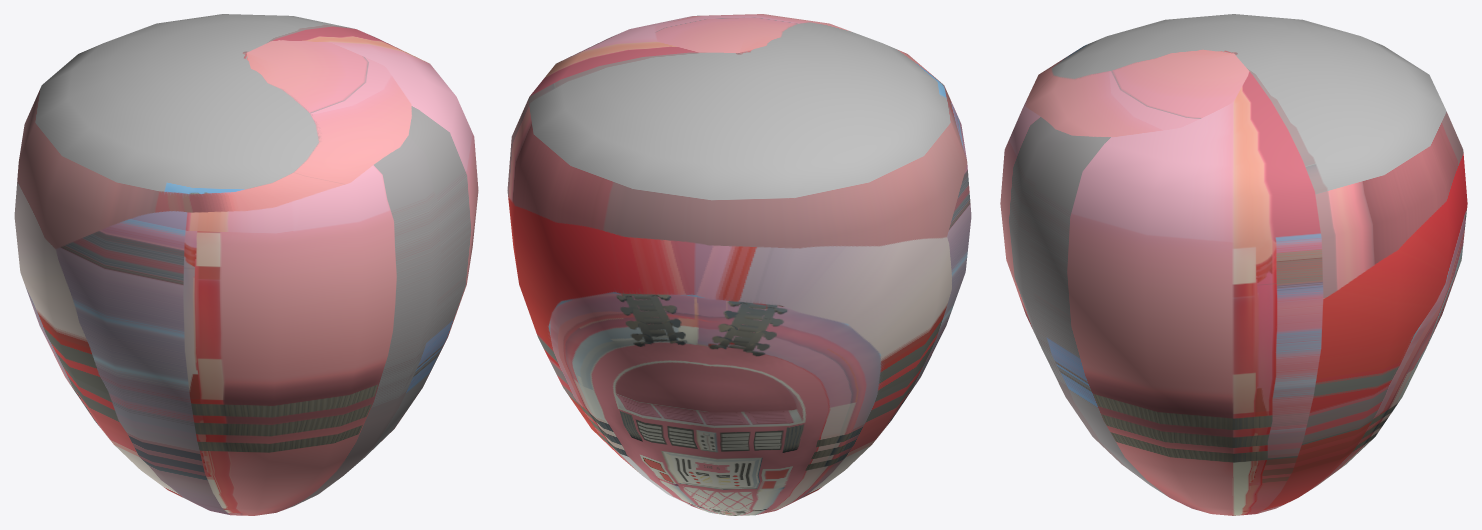
File: strawberry_T.fbx
3 views of the same model, side by side, from view 1: azimuth 30°, elevation 25°; view 2: azimuth 150°, elevation 25°; view 3: azimuth 270°, elevation 25° (orthographic).
Visible parts, largest first — view 1: strawberry; view 2: strawberry; view 3: strawberry.
Boxes of the visible parts, bbox=[...] form: strawberry: bbox=[14, 14, 478, 515]; strawberry: bbox=[507, 14, 971, 515]; strawberry: bbox=[1000, 14, 1467, 515].
Size of the model in its own units: 1.84 by 1.97 by 1.84.
